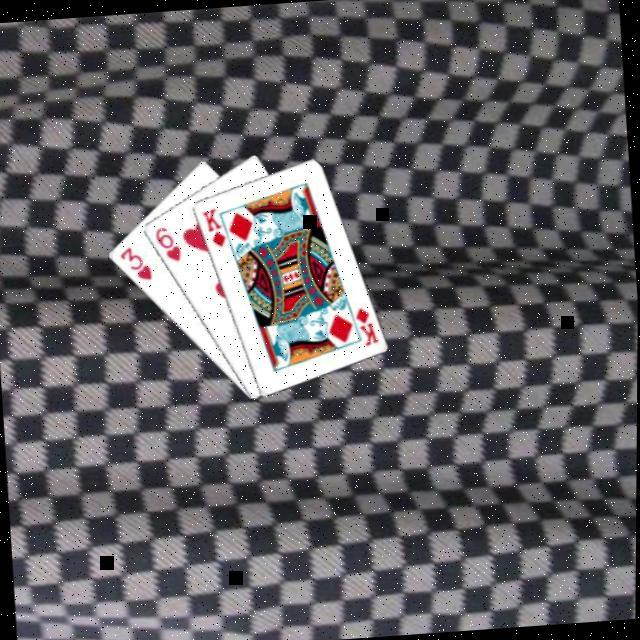3H: (115, 243, 154, 285)
6H: (150, 223, 183, 266)
KD: (197, 204, 228, 252), (351, 304, 380, 349)
